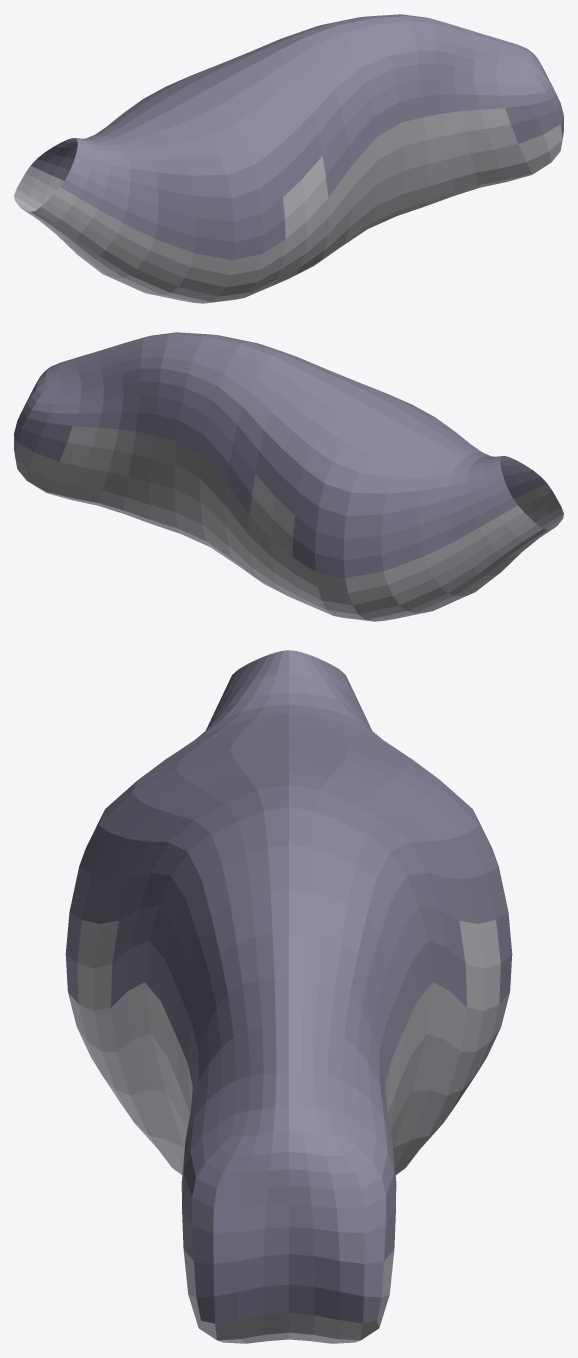
3 views of the same model, one above another, from view 1: azimuth 30°, elevation 25°; view 2: azimuth 150°, elevation 25°; view 3: azimuth 270°, elevation 25° (orthographic). The views are drawn at different scales.
Parts seen in each view (by area): view 1: Base#1; view 2: Base#1; view 3: Base#1.
Part boxes in pixels (left/top/right/bottom): Base#1: left=14, top=14, right=563, bottom=303; Base#1: left=14, top=332, right=563, bottom=621; Base#1: left=65, top=650, right=512, bottom=1343.
Size of the model in its own units: 3.58 by 1.53 by 1.32.
